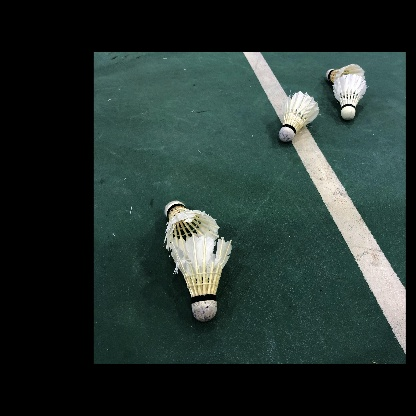ball_single: (170, 235, 232, 322), (165, 200, 220, 254), (279, 90, 319, 142), (333, 73, 367, 120), (326, 64, 365, 88)
